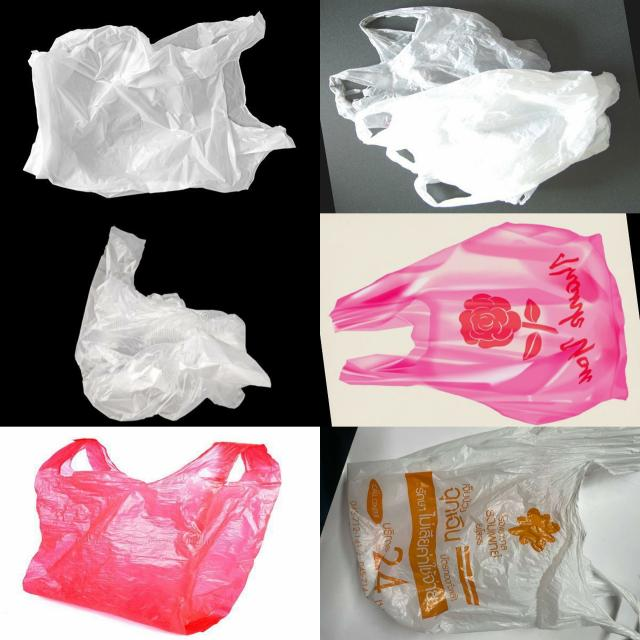Single-layer Plastic: (347, 426, 640, 640), (330, 222, 628, 424), (23, 439, 281, 634), (24, 14, 295, 198), (75, 228, 270, 421), (355, 69, 619, 208), (329, 6, 550, 120)
